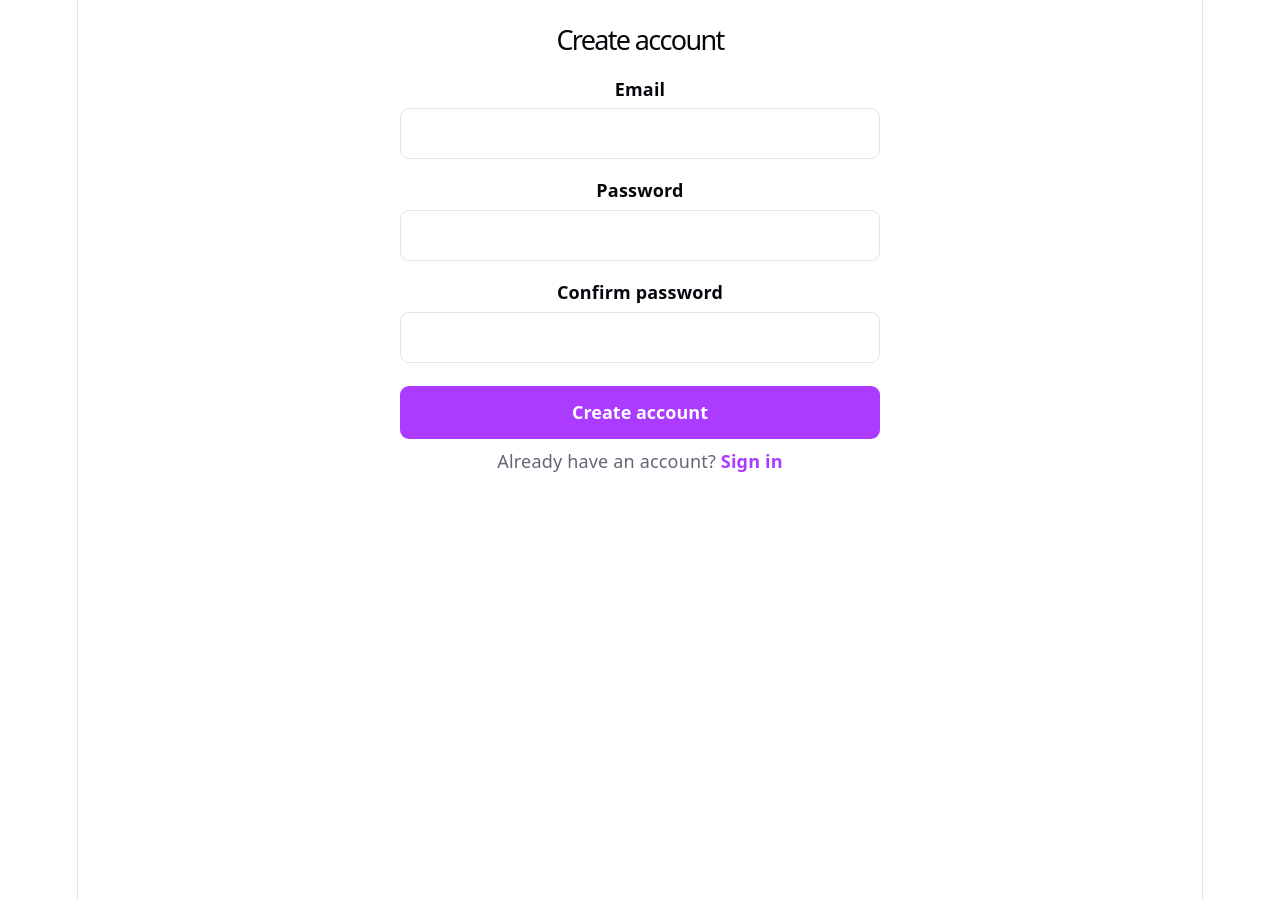
Test: RegisterPage › shows a validation error when passwords do not match
Step 1. Type "user@example.com" into the field labelled "Email" → (640, 134), box [400,108,880,160]
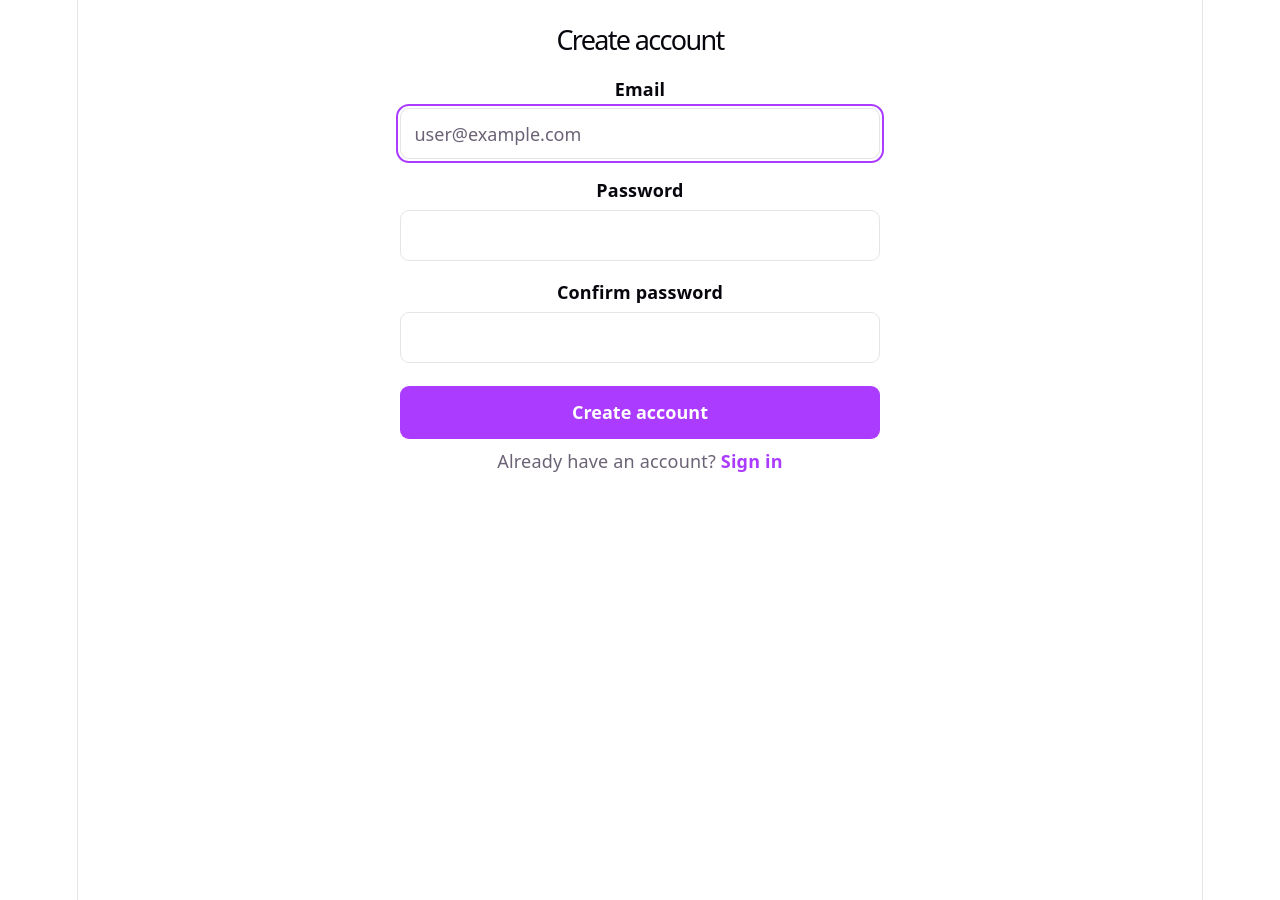
Step 2. Type "password123" into the password field labelled "Password" → (640, 236), box [400,210,880,261]
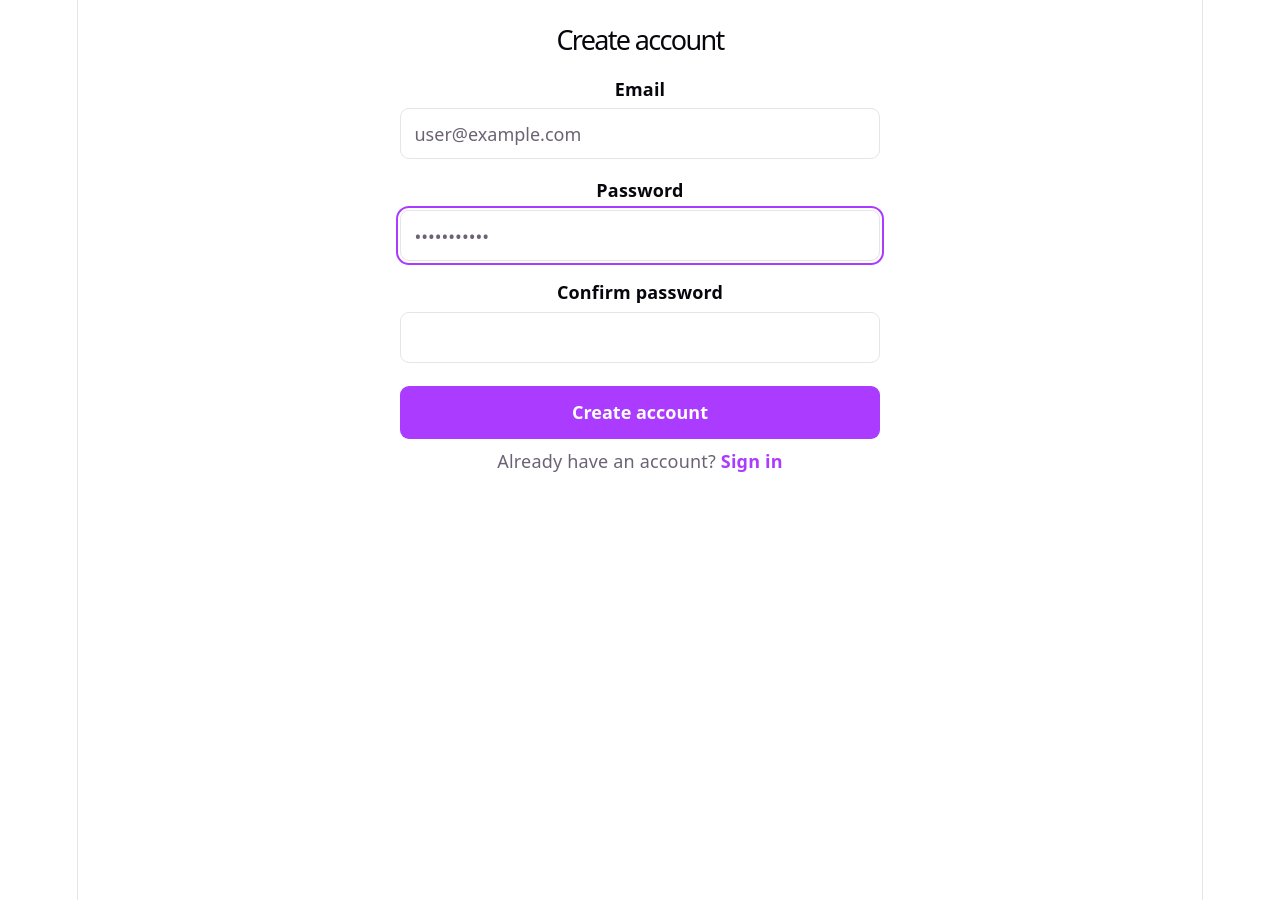
Step 3. Type "different-password" into the password field labelled "Confirm password" → (640, 337), box [400,312,880,363]
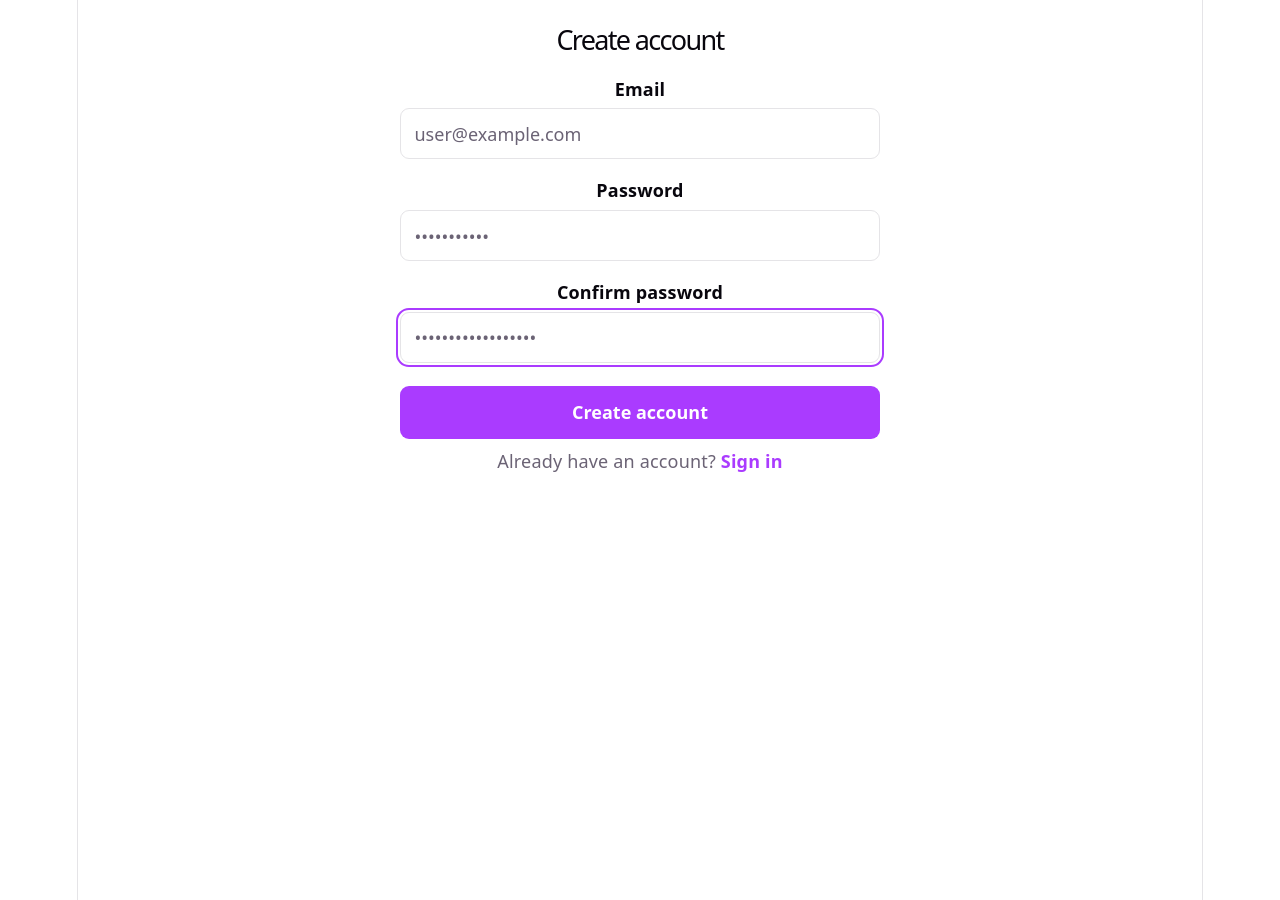
Step 4. Click the button "Create account" → (640, 412), box [400,386,880,439]
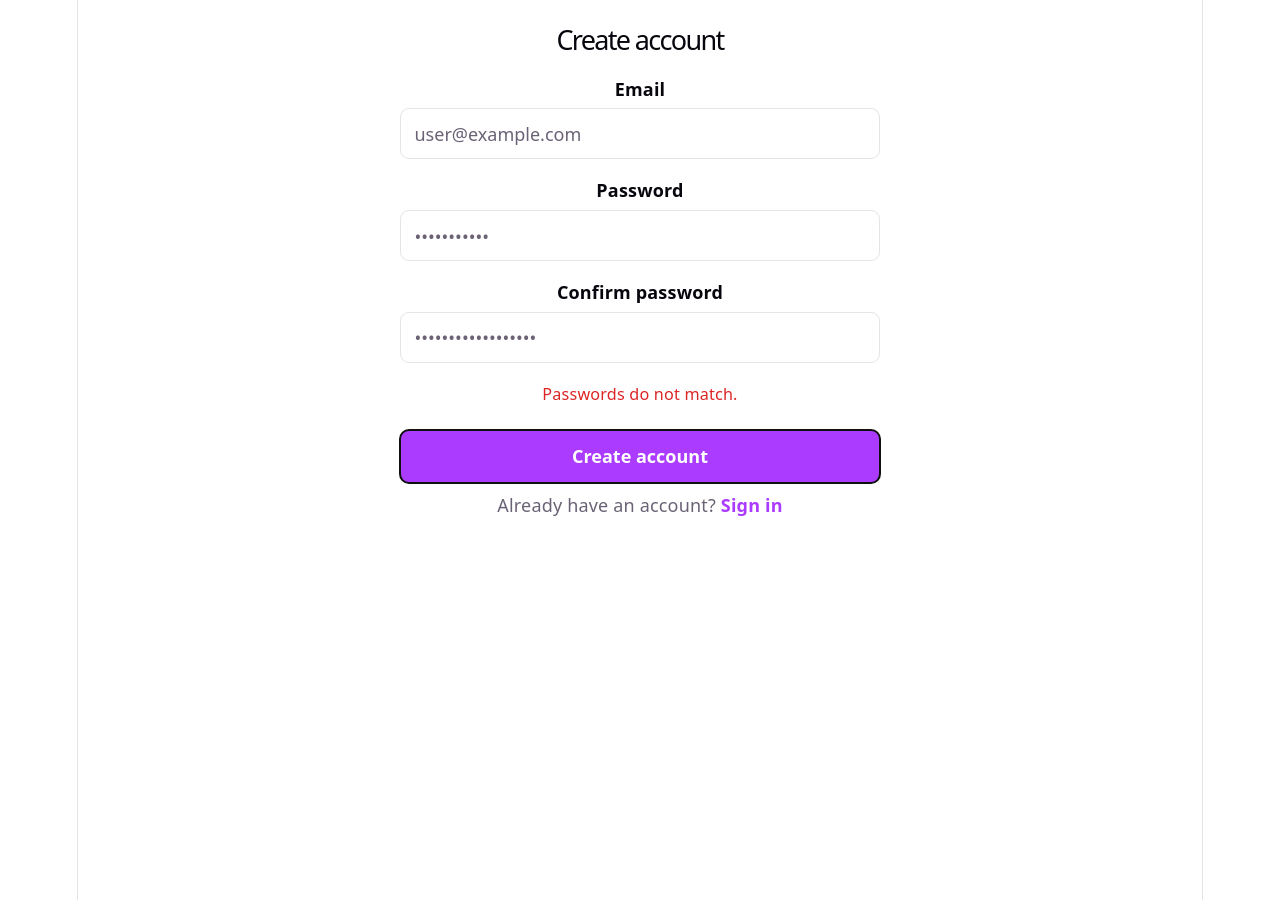
Now the text "Passwords do not match." is shown, box [542,383,738,405]
